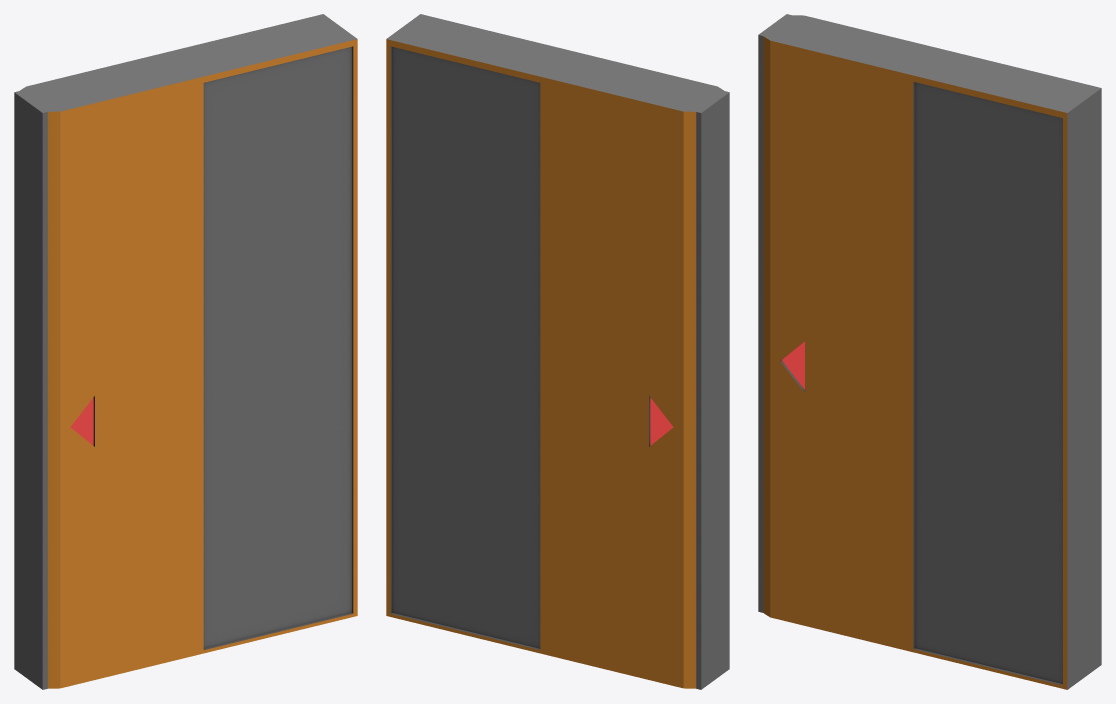
File: slidingdoor02.gltf
3 renders of one model, left to right at view 1: azimuth 30°, elevation 25°; view 2: azimuth 150°, elevation 25°; view 3: azimuth 330°, elevation 25°, orthographic.
Parts seen in each view (by area): view 1: SlidingDoor02; view 2: SlidingDoor02; view 3: SlidingDoor02.
Boxes of the visible parts, x1,y1,x2,y2 form: SlidingDoor02: (14, 14, 357, 689); SlidingDoor02: (386, 14, 729, 689); SlidingDoor02: (758, 14, 1101, 689).
Bounding box in the file's own units: 1.26 × 2.23 × 0.24.
Materials: 1 (1 with a texture image).
